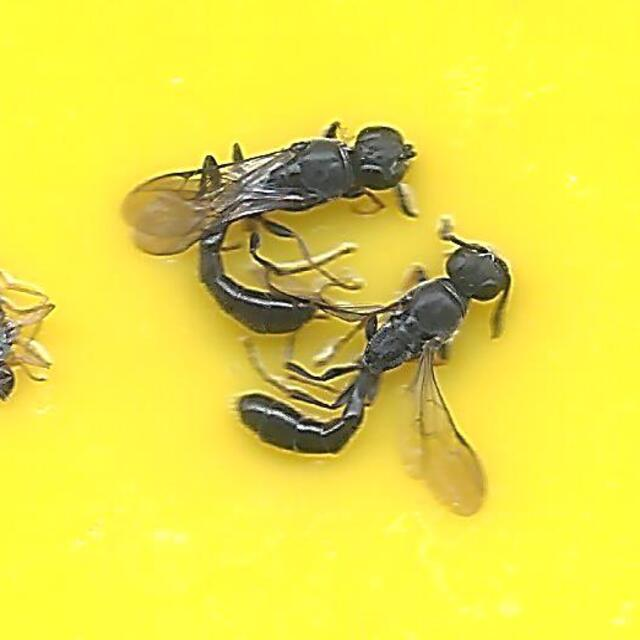Hymenoptera: (232, 221, 517, 516), (123, 124, 416, 338)
